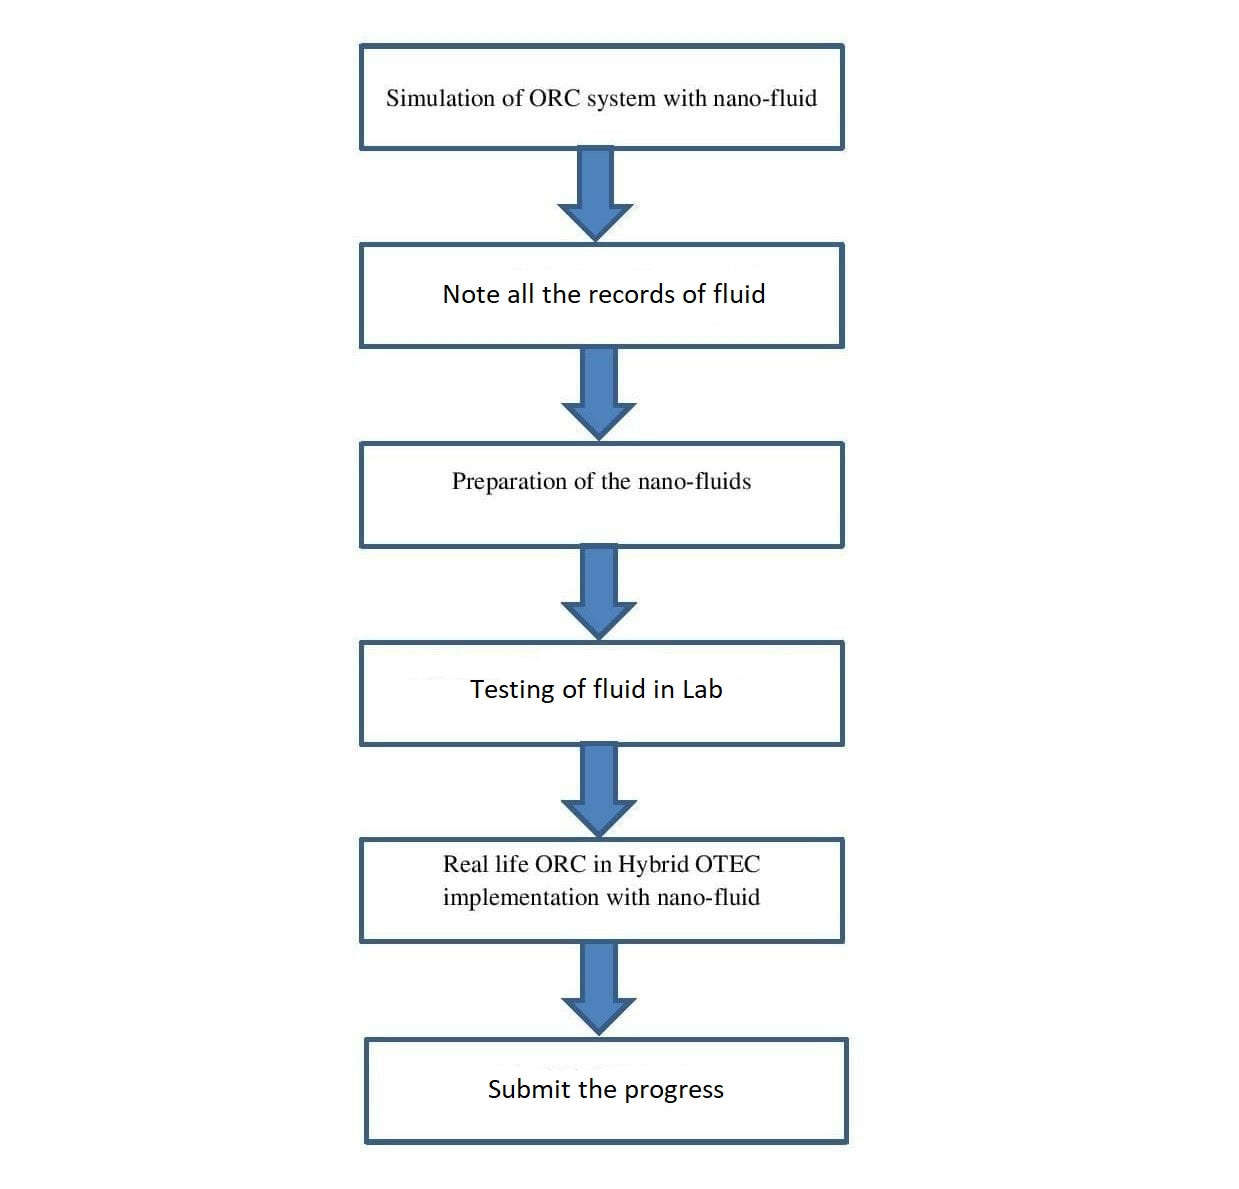arrow: (552, 538, 646, 646), (553, 739, 643, 842), (548, 144, 639, 242), (552, 936, 637, 1037), (553, 347, 641, 442)
process: (353, 431, 851, 553), (353, 236, 853, 356), (355, 634, 848, 752), (353, 36, 851, 154), (351, 830, 848, 947), (360, 1034, 855, 1150)
text: (439, 851, 769, 910), (379, 81, 821, 108), (435, 277, 770, 307), (447, 463, 756, 497), (482, 1072, 727, 1112), (460, 674, 726, 705)
